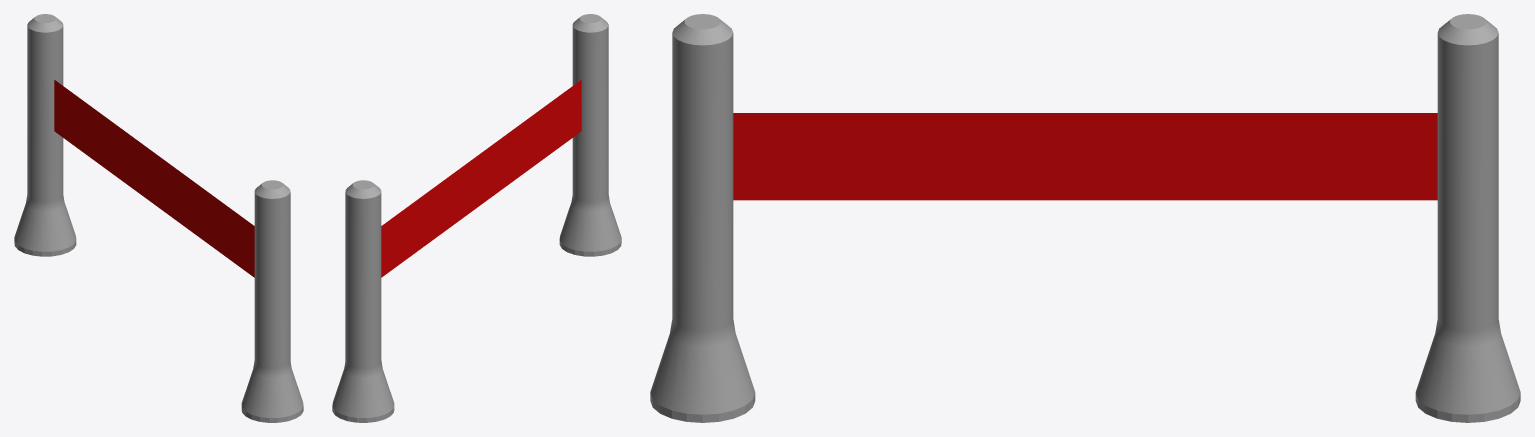
File: Poles_Clean.fbx
3 views of the same model, side by side, from view 1: azimuth 30°, elevation 25°; view 2: azimuth 150°, elevation 25°; view 3: azimuth 270°, elevation 25° (orthographic). The views are drawn at different scales.
Parts seen in each view (by area): view 1: Strip, Pole1, Pole2; view 2: Strip, Pole2, Pole1; view 3: Strip, Pole1, Pole2.
Boxes of the visible parts, x1,y1,x2,y2 form: Strip: (54,80,254,277); Pole1: (241,180,303,422); Pole2: (14,14,76,256); Strip: (381,80,581,277); Pole2: (332,180,394,422); Pole1: (559,14,621,256); Strip: (733,113,1437,200); Pole1: (650,14,755,422); Pole2: (1415,14,1520,422).
Bounding box in the file's own units: 0.7201 × 2.86 × 5.96.
